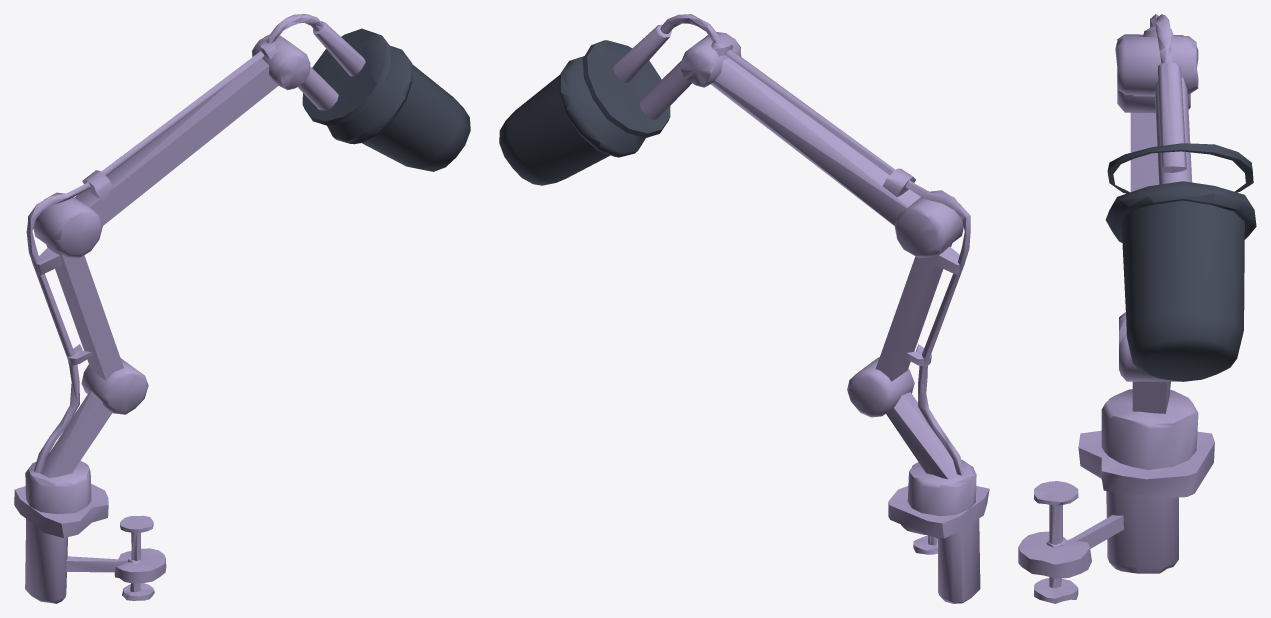
Rendered from gaming_microphone.glb.
3 views of the same model, side by side, from view 1: azimuth 30°, elevation 25°; view 2: azimuth 150°, elevation 25°; view 3: azimuth 270°, elevation 25° (orthographic). The views are drawn at different scales.
Bounding box in the file's own units: 0.76 × 0.8363 × 0.2503.
